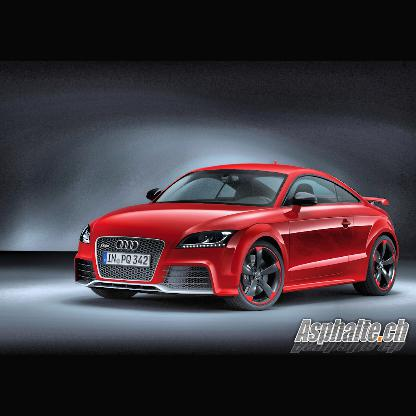Audi TT RS Coupe 2012: (74, 162, 401, 312)
